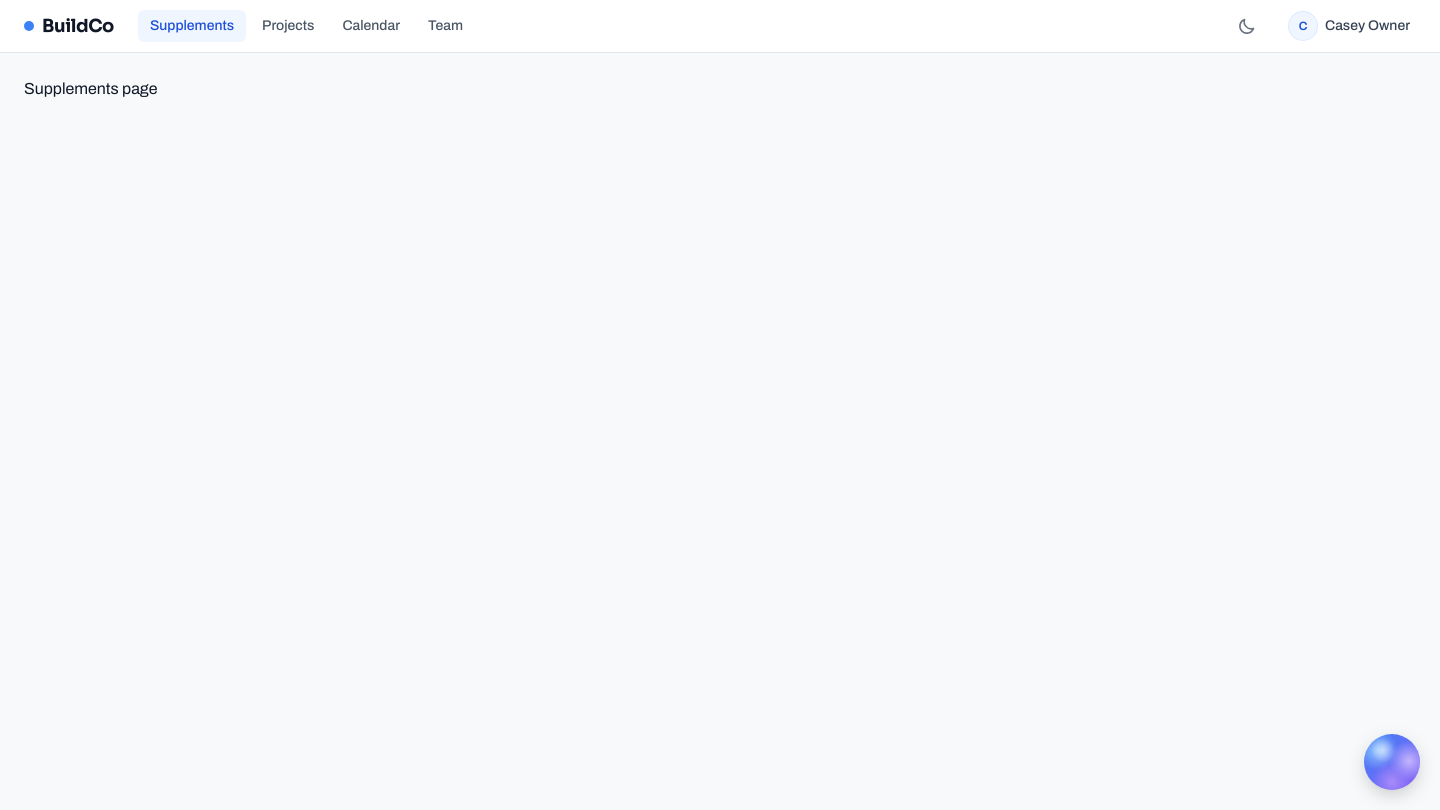
BuildCo Assistant in the shell › starting › shows the live controls once the server is ready
Click the button named "Ask BuildCo Assistant": [1392, 762] box [1364,734,1420,790]
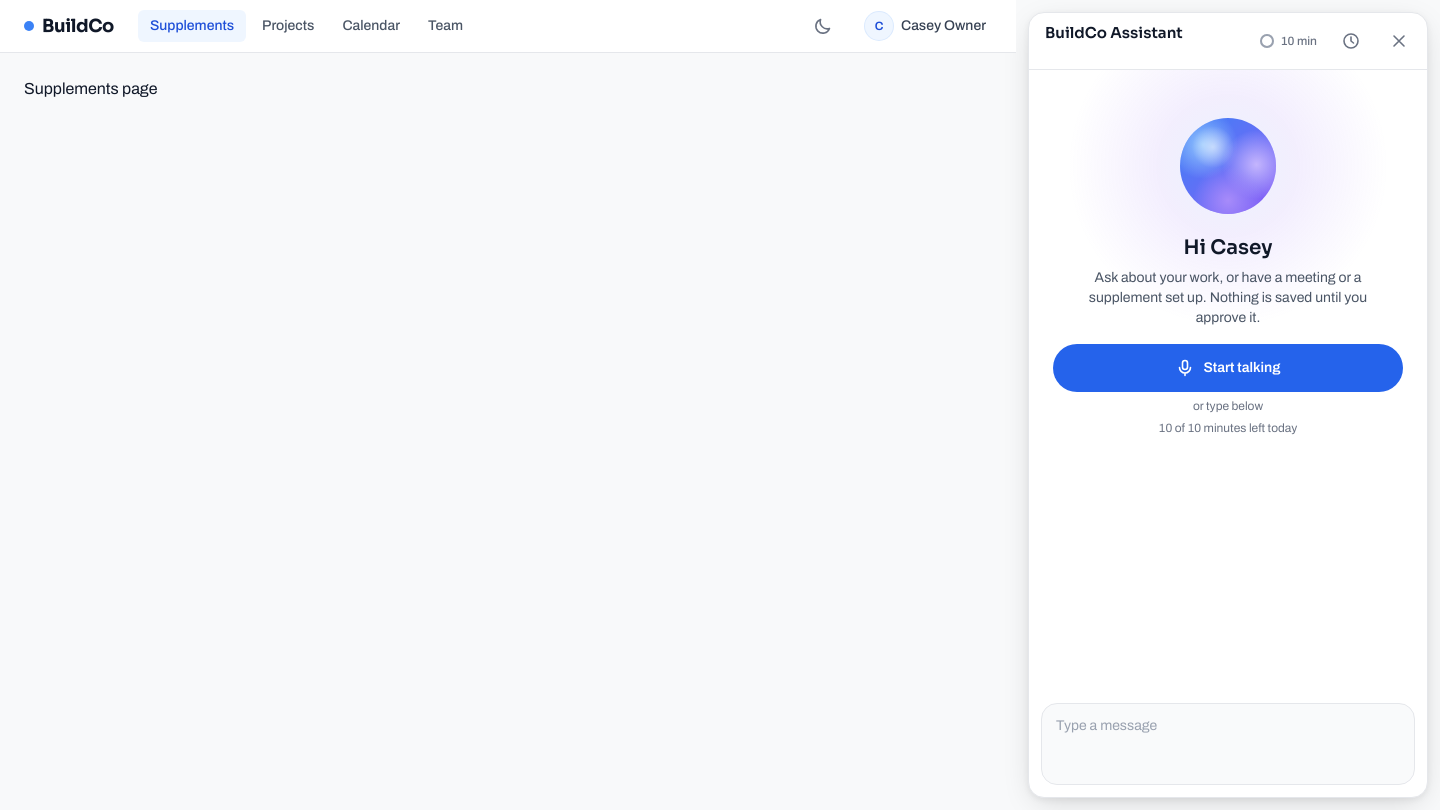
Click the button "Start talking": [1228, 368] box [1053,344,1403,392]
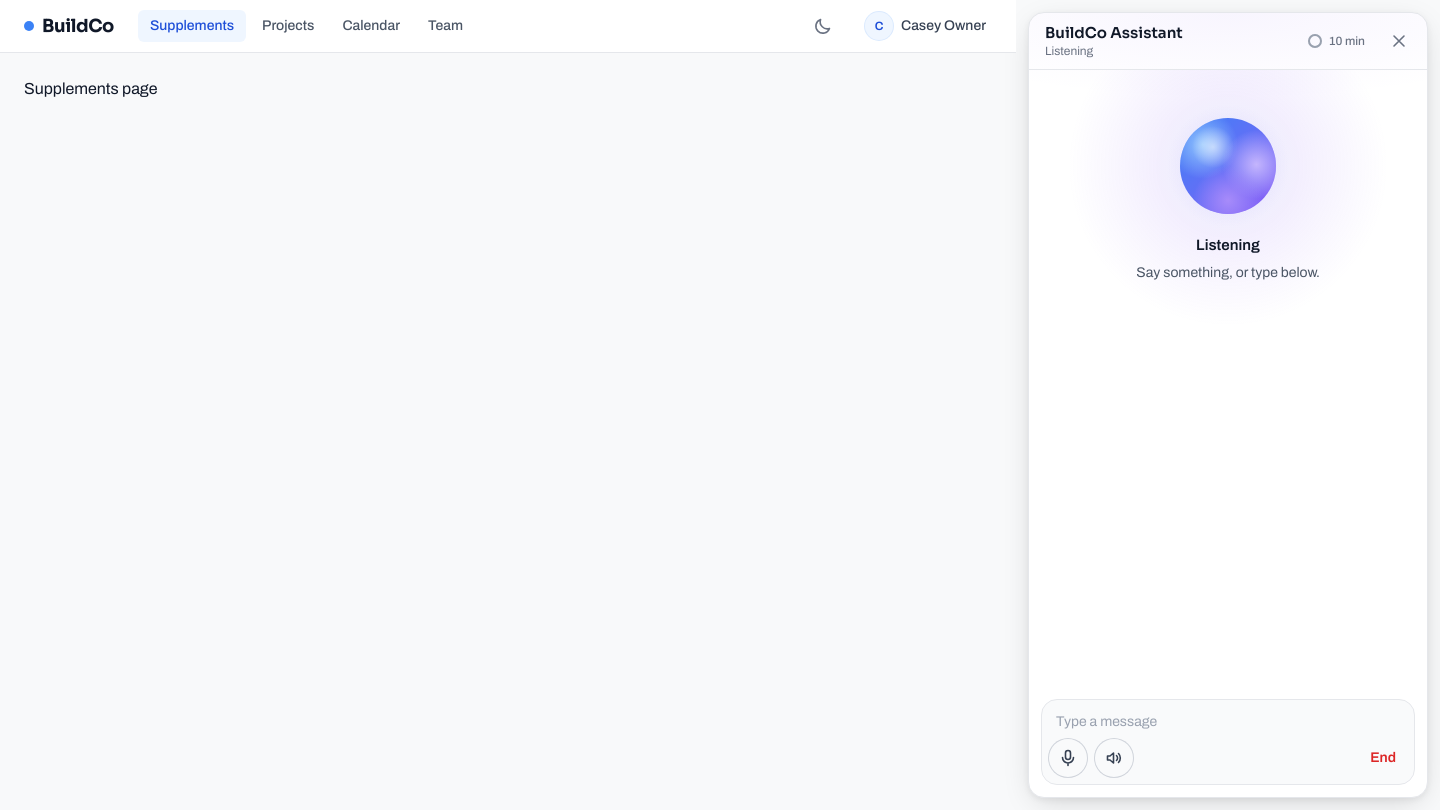
Now the button named "Mute" is shown, box [1046,736,1090,780]
Now the button named "Turn speaker off" is shown, box [1092,736,1136,780]
Now the button "End" is shown, box [1356,736,1410,780]
